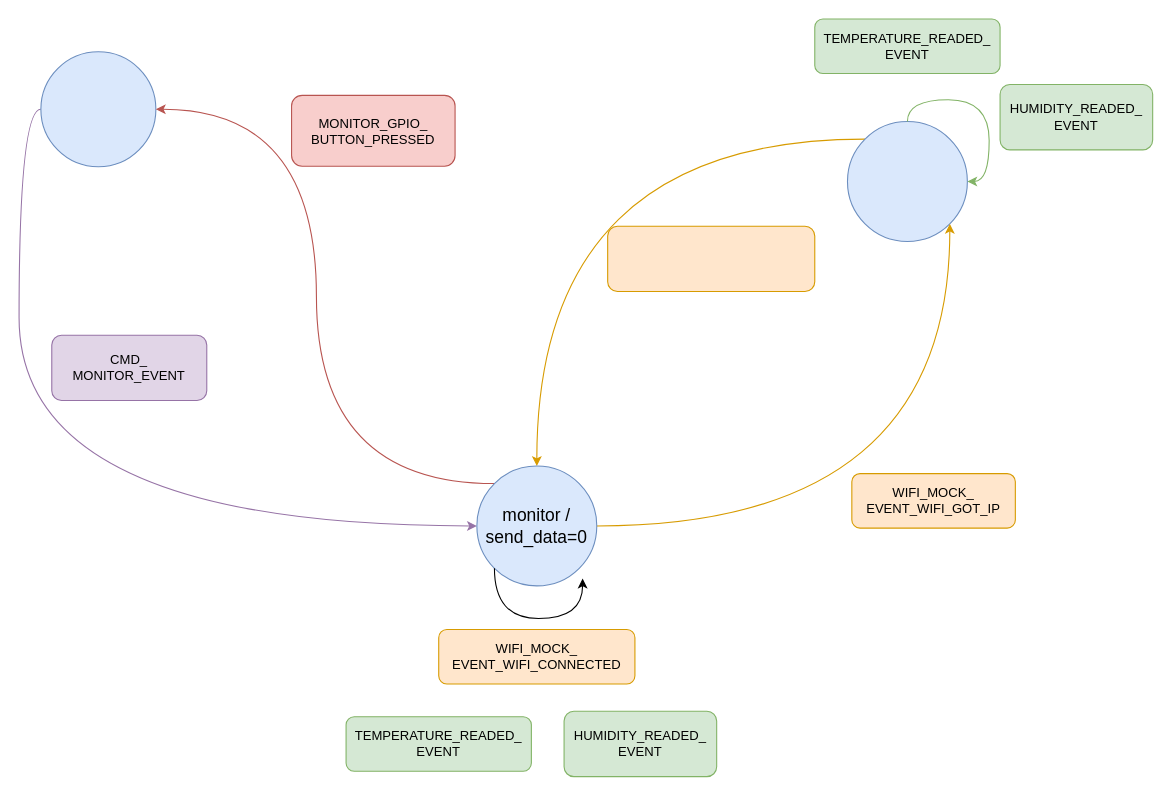
The diagram is 1172 pixels wide and 796 high, and some of its shapes have lost their labels. Each missing label, with the centre of its shape:
"console" goes at (98,109).
"monitor / send_data=1" goes at (906,180).
"WIFI_MOCK_ EVENT_WIFI_DISCONNECTED" goes at (711,258).
